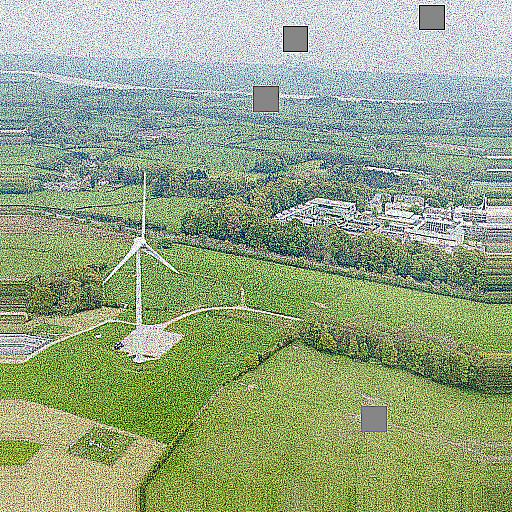wind turbine: (103, 171, 178, 339)
